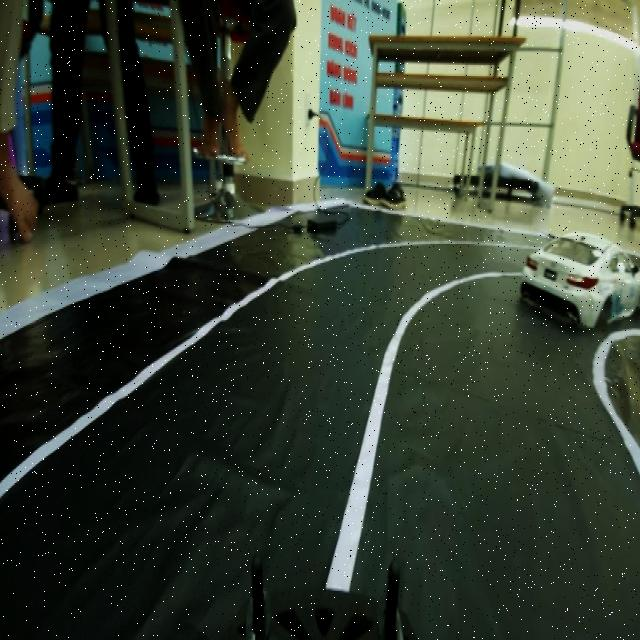car: (522, 212, 633, 348)
